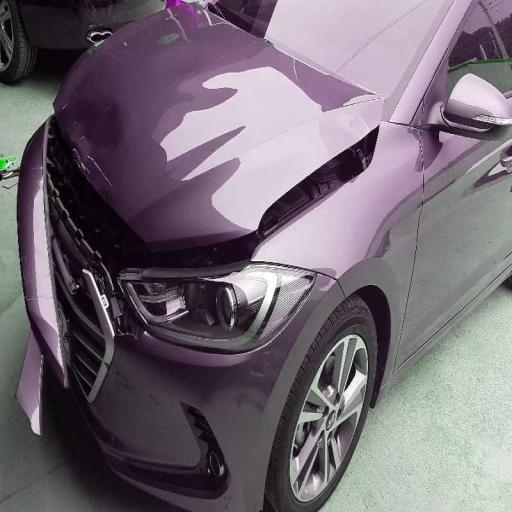broken: (24, 154, 248, 457)
scratch: (150, 5, 239, 58)
